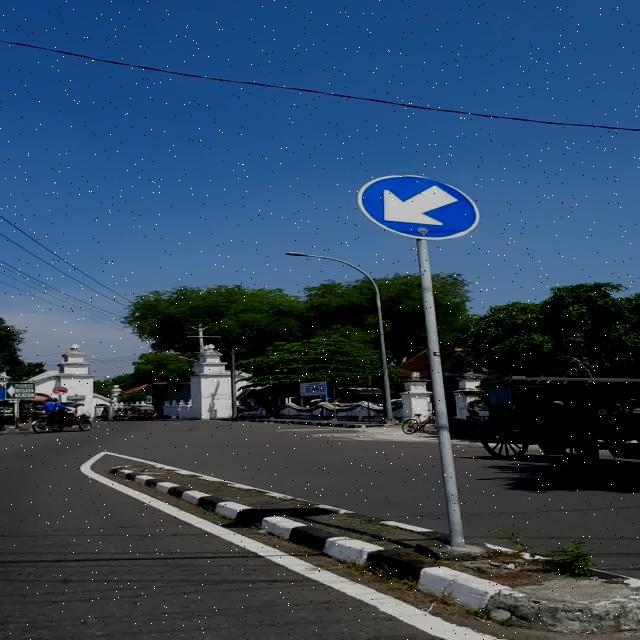Lajur Kiri: (356, 174, 479, 240)
